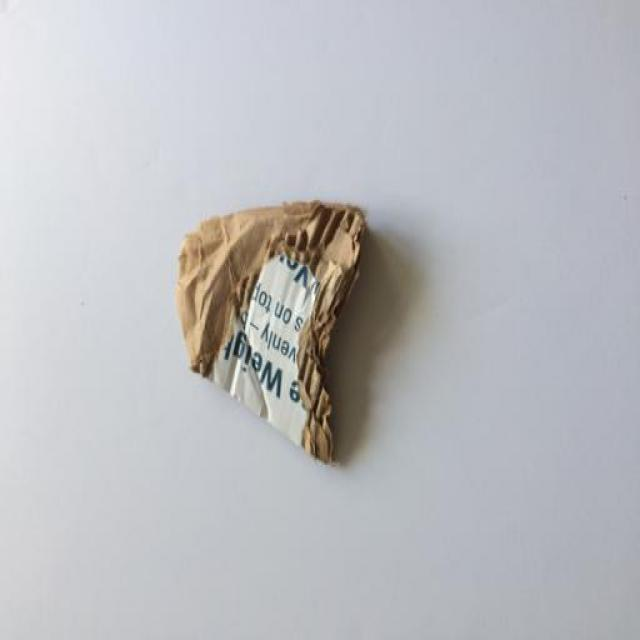cardboard: (174, 185, 393, 477)
